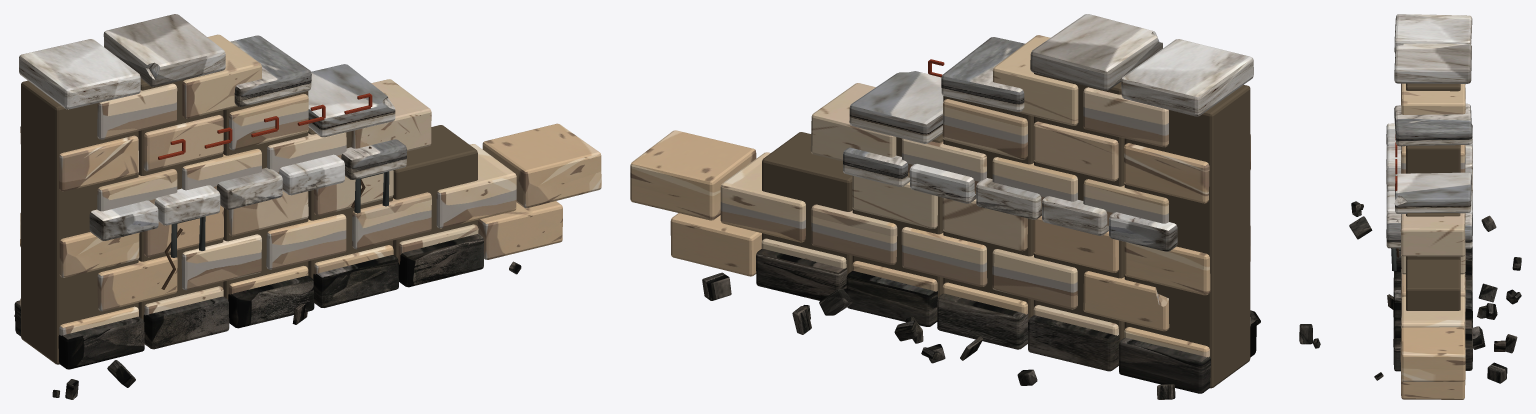
The model's file is ruin_wall_180_LOD0.glb.
3 renders of one model, left to right at view 1: azimuth 30°, elevation 25°; view 2: azimuth 150°, elevation 25°; view 3: azimuth 270°, elevation 25°, orthographic. The views are drawn at different scales.
Visible parts, largest first — view 1: RuinWallCore, RuinWallAshlar.011, BrokenWallCap.001, BrokenWallCap, RuinWallCore.004, BrokenWallCap.003, RuinWallAshlar.010, RuinWallAshlar.005, RuinFoundationAshlar, RuinWallAshlar.024, BrokenWallCap.002, RuinWallAshlar.008 (+32 smaller); view 2: RuinWallCore, RuinWallAshlar.011, BrokenWallCap, BrokenWallCap.001, RuinWallCore.004, BrokenWallCap.003, RuinWallAshlar.010, RuinWallAshlar.005, RuinFoundationAshlar, BrokenWallCap.002, RuinWallAshlar.020, RuinWallAshlar.009 (+34 smaller); view 3: RuinWallAshlar.011, BrokenWallCap.001, BrokenWallCap.003, RuinWallCore.004, RuinWallAshlar.019, BrokenWallCap.002, BrokenWallCap, RuinWallAshlar.024, RuinWallCore.002, RuinWallAshlar.010, RuinWallAshlar.005, MantleCourseStone.004 (+18 smaller).
Part boxes in pixels (box(x1,y1,x2,y2)): RuinWallCore: box(21, 80, 138, 364); RuinWallAshlar.011: box(482, 123, 601, 208); BrokenWallCap.001: box(103, 14, 225, 86); BrokenWallCap: box(19, 39, 140, 109); RuinWallCore.004: box(393, 125, 477, 259); BrokenWallCap.003: box(308, 64, 395, 137); RuinWallAshlar.010: box(436, 144, 516, 228); RuinWallAshlar.005: box(478, 201, 562, 259); RuinFoundationAshlar: box(14, 300, 144, 369); RuinWallAshlar.024: box(182, 34, 261, 118); BrokenWallCap.002: box(230, 35, 311, 106); RuinWallAshlar.008: box(266, 214, 346, 269); RuinWallCore: box(1124, 85, 1250, 388); RuinWallAshlar.011: box(630, 130, 756, 220); BrokenWallCap: box(1121, 39, 1253, 116); BrokenWallCap.001: box(1030, 14, 1162, 90); RuinWallCore.004: box(762, 132, 852, 274); BrokenWallCap.003: box(849, 71, 943, 143); RuinWallAshlar.010: box(720, 152, 805, 242); RuinWallAshlar.005: box(670, 213, 761, 276); RuinFoundationAshlar: box(1119, 319, 1256, 393); BrokenWallCap.002: box(941, 37, 1024, 111); RuinWallAshlar.020: box(1124, 134, 1250, 203); RuinWallAshlar.009: box(811, 204, 897, 264); RuinWallAshlar.011: box(1400, 327, 1465, 381); BrokenWallCap.001: box(1394, 43, 1471, 83); BrokenWallCap.003: box(1394, 172, 1471, 213); RuinWallCore.004: box(1406, 259, 1460, 310); RuinWallAshlar.019: box(1400, 213, 1465, 256); BrokenWallCap.002: box(1394, 103, 1472, 146); BrokenWallCap: box(1394, 14, 1472, 53); RuinWallAshlar.024: box(1401, 83, 1465, 114); RuinWallCore.002: box(1406, 145, 1460, 173); RuinWallAshlar.010: box(1401, 296, 1465, 333); RuinWallAshlar.005: box(1401, 348, 1465, 399); MantleCourseStone.004: box(1386, 213, 1472, 248).
Size of the model in its own units: 4.08 by 1.96 by 1.42.
Materials: 7 (3 with a texture image).
